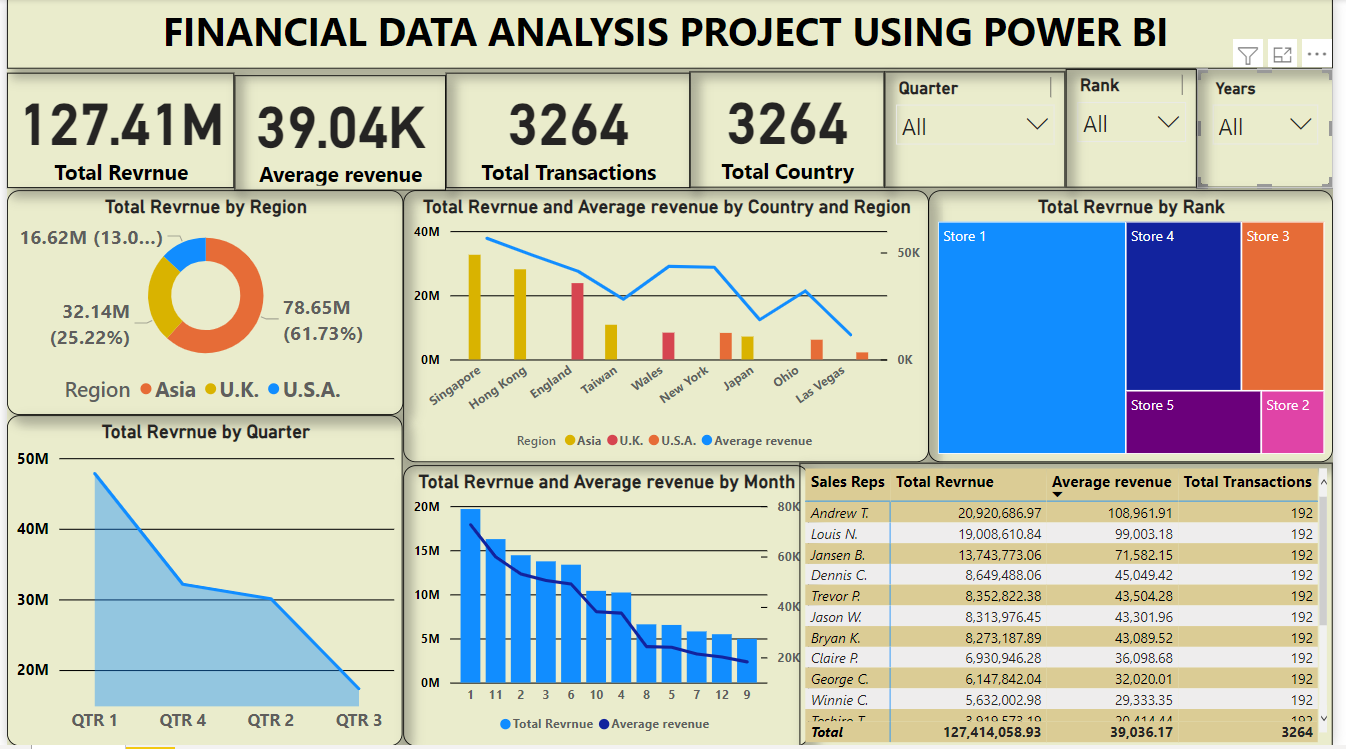

This screenshot's page, from the dashboard's own definition file:
{"tool":"powerbi","page":{"name":"Page 1","canvas":[1280,720],"ordinal":0},"visuals":[{"type":"card","fields":{"Values":["Measures (3).Total Country"]},"box":[659,69.9,188,112],"z":0},{"type":"card","fields":{"Values":["Measures (3).Total Transactions"]},"box":[422.9,71.1,236.1,110.8],"z":1000},{"type":"donutChart","fields":{"Y":["Measures (3).Total Revrnue"],"Category":["Sheet1.Region"]},"box":[0,184.5,382.3,217.1],"z":2000},{"type":"lineClusteredColumnComboChart","fields":{"Category":["Sheet1.Country"],"Y":["Measures (3).Total Revrnue"],"Y2":["Measures (3).Average revenue"],"Series":["Sheet1.Region"]},"box":[381.9,184.3,507.2,262.7],"z":3000},{"type":"treemap","fields":{"Values":["Measures (3).Total Revrnue"],"Group":["Sheet1.Rank"]},"box":[889.2,184.3,390.4,262.7],"z":4000},{"type":"areaChart","fields":{"Category":["Sheet1.Quarter"],"Y":["Measures (3).Total Revrnue"]},"box":[0,401.2,381.9,319.3],"z":5000},{"type":"card","fields":{"Values":["Measures (3).Average revenue"]},"box":[219.3,73.5,203.6,110.8],"z":6000},{"type":"textbox","box":[0,0,1279.5,67.5],"z":7000},{"type":"lineClusteredColumnComboChart","fields":{"Y":["Measures (3).Total Revrnue"],"Y2":["Measures (3).Average revenue"],"Category":["Sheet1.Month"]},"box":[381.9,449.4,391.6,271.1],"z":8000},{"type":"pivotTable","fields":{"Rows":["Sheet1.Sales Reps"],"Values":["Measures (3).Total Revrnue","Measures (3).Average revenue","Measures (3).Total Transactions"]},"box":[765.1,447,514.5,273.5],"z":9000},{"type":"slicer","fields":{"Values":["Sheet1.Years"]},"box":[1148.2,67.5,131.3,114.5],"z":10000},{"type":"slicer","fields":{"Values":["Sheet1.Rank"]},"box":[1021.7,67.5,126.5,114.5],"z":11000},{"type":"slicer","fields":{"Values":["Sheet1.Quarter"]},"box":[847,69.9,174.7,112],"z":12000},{"type":"card","fields":{"Values":["Measures (3).Total Revrnue"]},"box":[0,71.1,219.3,110.8],"z":13000}]}

Visuals, with their boxes in screenshot pixels (x1, y1, x2, y2), scaled from the page's 1280x720 canvas onto the 1346x749 screenshot:
card - Measures (3).Total Country: crop(693, 73, 891, 189)
card - Measures (3).Total Transactions: crop(445, 74, 693, 189)
donutChart - Measures (3).Total Revrnue x Sheet1.Region: crop(0, 192, 402, 418)
lineClusteredColumnComboChart - Sheet1.Country x Measures (3).Total Revrnue: crop(402, 192, 935, 465)
treemap - Measures (3).Total Revrnue x Sheet1.Rank: crop(935, 192, 1345, 465)
areaChart - Sheet1.Quarter x Measures (3).Total Revrnue: crop(0, 417, 402, 748)
card - Measures (3).Average revenue: crop(231, 76, 445, 192)
textbox: crop(0, 0, 1345, 70)
lineClusteredColumnComboChart - Measures (3).Total Revrnue x Measures (3).Average revenue: crop(402, 468, 813, 748)
pivotTable - Sheet1.Sales Reps x Measures (3).Total Revrnue: crop(805, 465, 1345, 748)
slicer - Sheet1.Years: crop(1207, 70, 1345, 189)
slicer - Sheet1.Rank: crop(1074, 70, 1207, 189)
slicer - Sheet1.Quarter: crop(891, 73, 1074, 189)
card - Measures (3).Total Revrnue: crop(0, 74, 231, 189)
